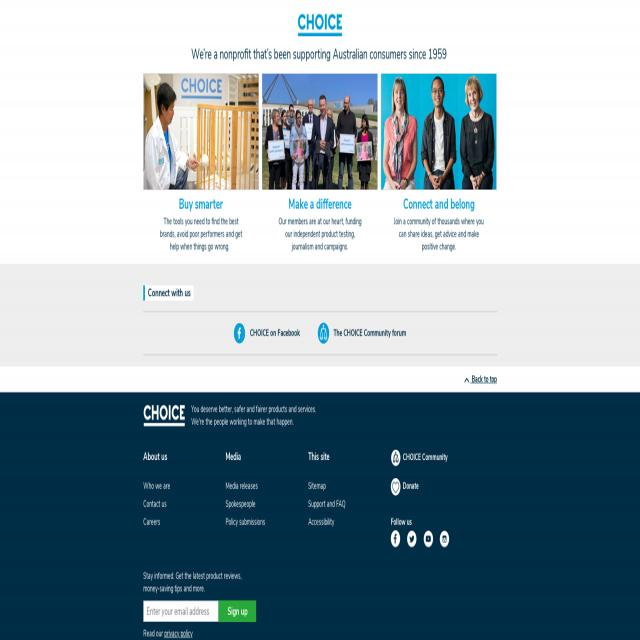button: (143, 73, 259, 191), (262, 73, 378, 191), (381, 73, 497, 191), (298, 13, 342, 37), (143, 404, 185, 427), (218, 600, 256, 622), (317, 323, 329, 343), (234, 323, 245, 343), (390, 448, 401, 467), (407, 530, 417, 548), (423, 530, 433, 548), (440, 530, 450, 548), (391, 530, 400, 548), (391, 478, 400, 495)
field: (143, 600, 219, 622)
